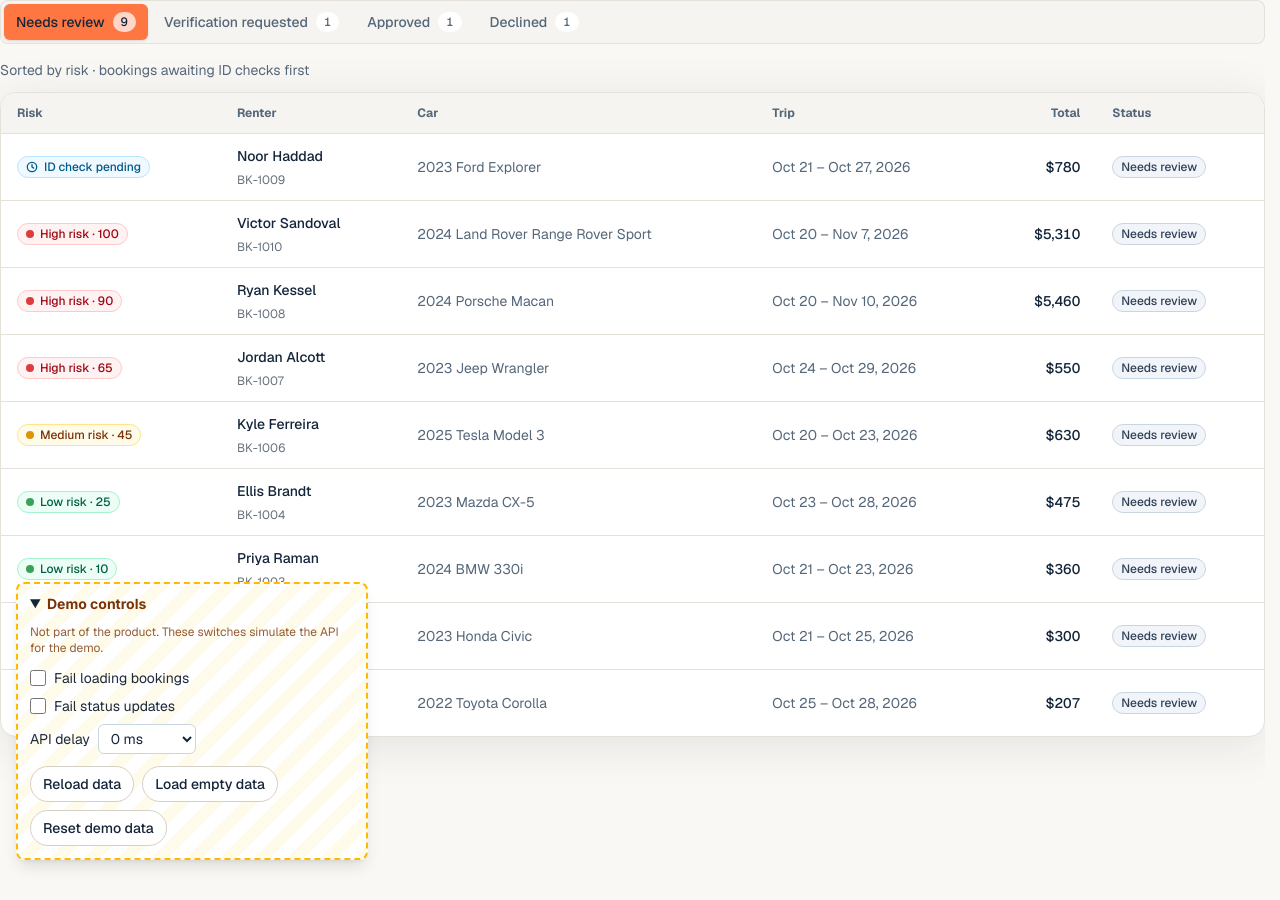
Test case: Recommendations in the drawer › RC-10, TR-08: an approved booking is read-only with no suggestion and no reason
expect the element named "Booking status" is shown: met, box [0,0,1265,44]
Click the tab "Approved 1".
click(414, 22)  # box [355,4,474,40]
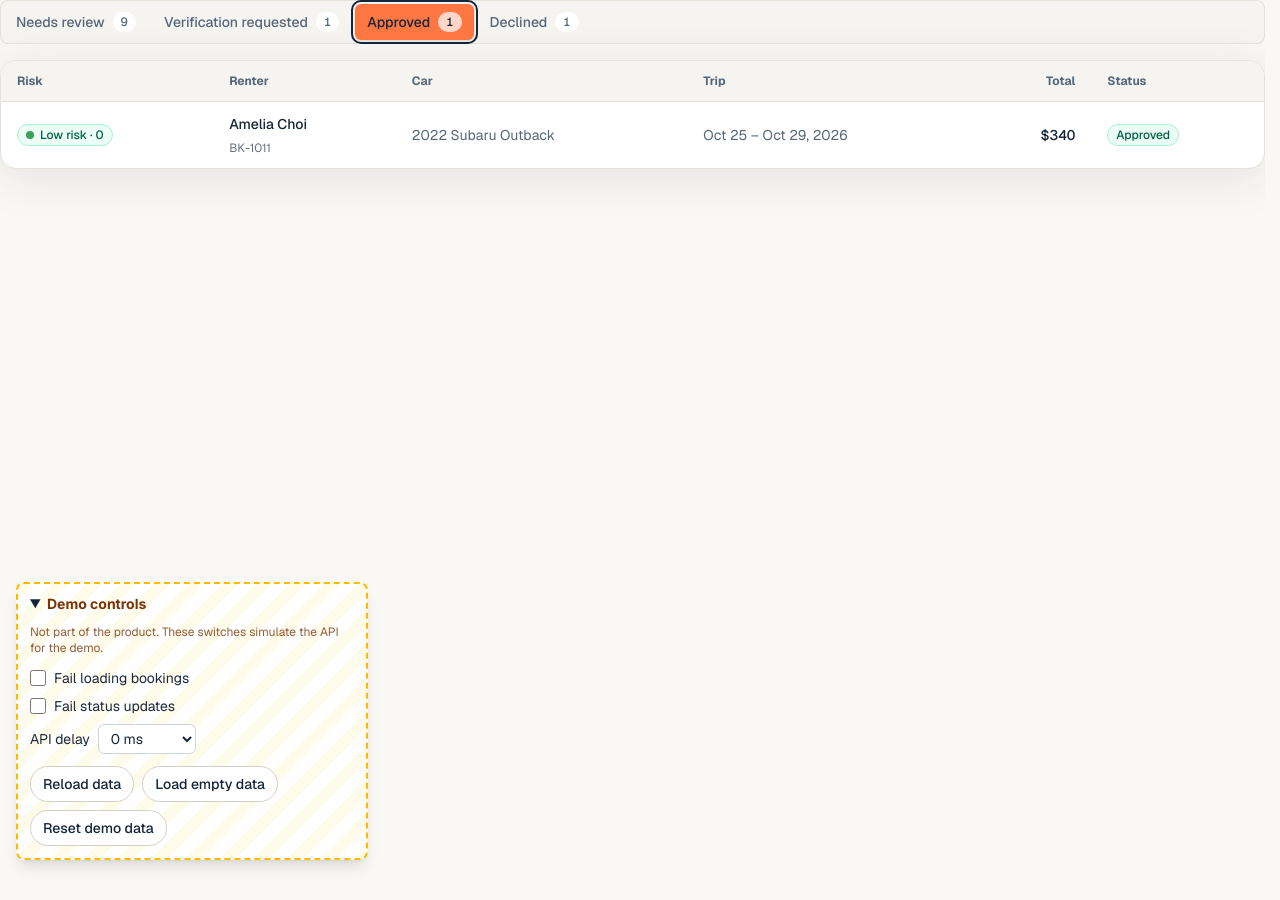
Click the button "Amelia Choi".
click(268, 124)  # box [229,114,307,134]
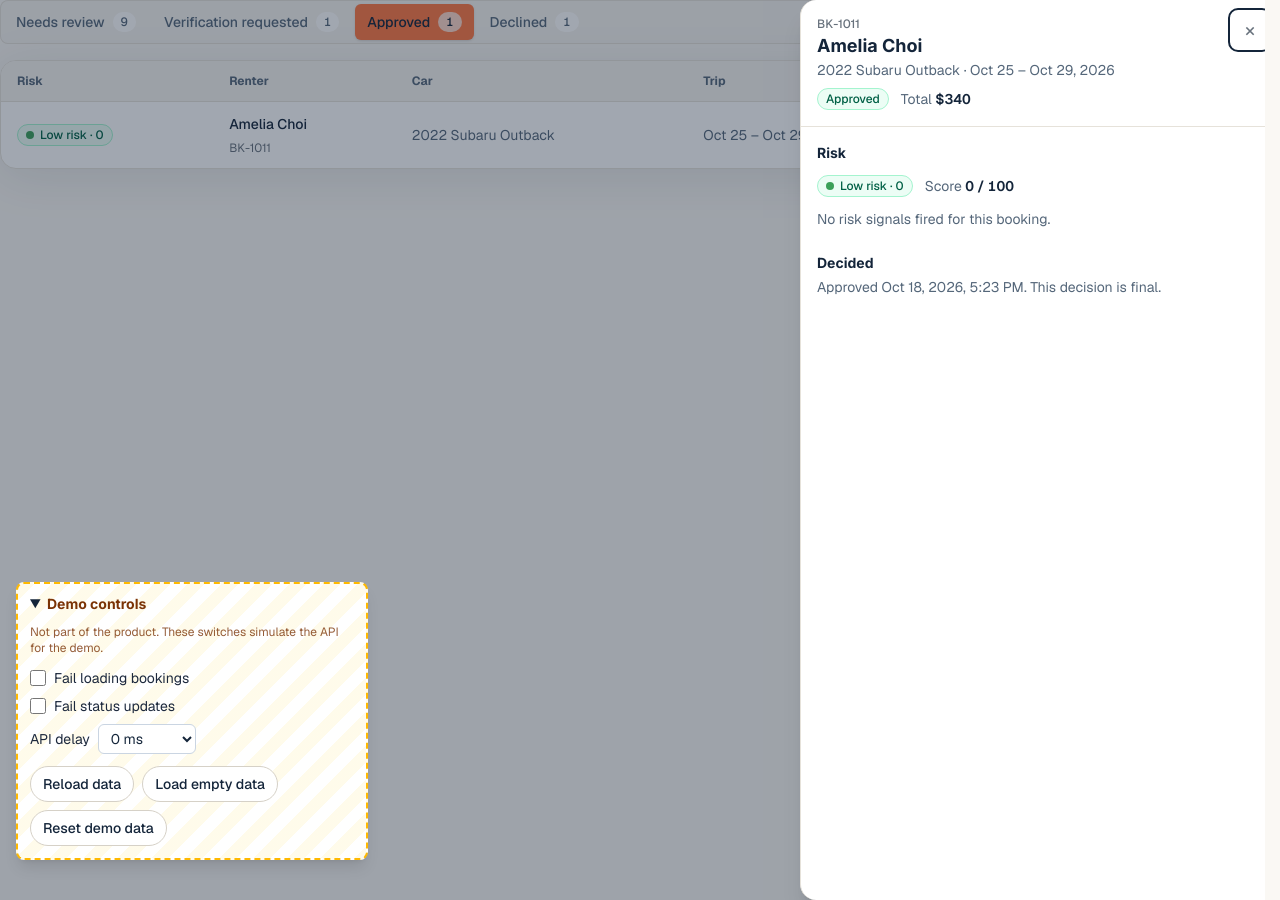
expect the element "Decided" reads "Decided Approved Oct 18, 2026, 5:23 PM. This decision is final.": met, box [817,254,1161,296]
expect the buttons read "×", in this order: met, box [1232,12,1268,48]
